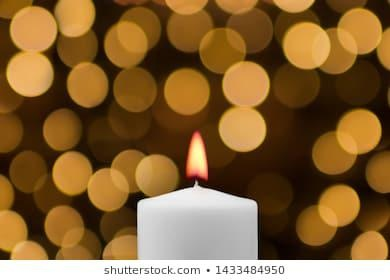fire: (183, 128, 209, 181)
